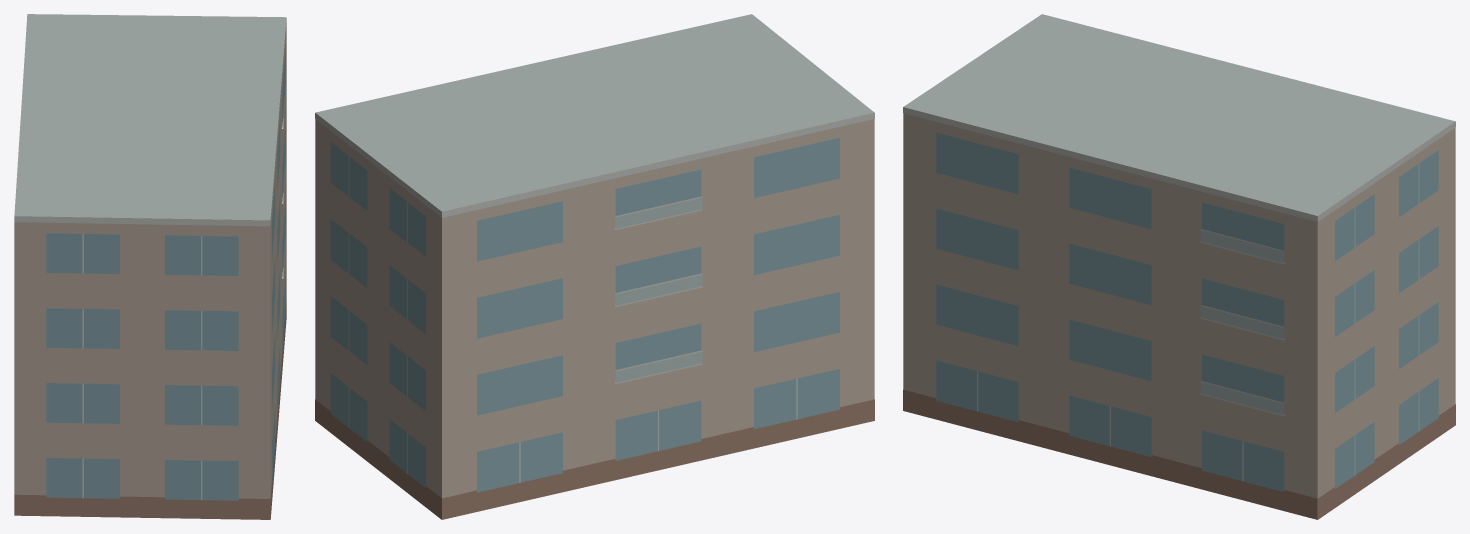
File: survey-upis-32524479.glb
The picture shows the model from 3 angles, left to right: view 1: azimuth 30°, elevation 25°; view 2: azimuth 150°, elevation 25°; view 3: azimuth 270°, elevation 25°; orthographic projection. The views are drawn at different scales.
Parts seen in each view (by area): view 1: survey-upis-32524479.tmp; view 2: survey-upis-32524479.tmp; view 3: survey-upis-32524479.tmp.
Boxes of the visible parts, x1,y1,x2,y2 form: survey-upis-32524479.tmp: (14, 14, 286, 519); survey-upis-32524479.tmp: (315, 14, 874, 519); survey-upis-32524479.tmp: (903, 14, 1455, 519).
Bounding box in the file's own units: 17.41 × 12.2 × 20.12.
